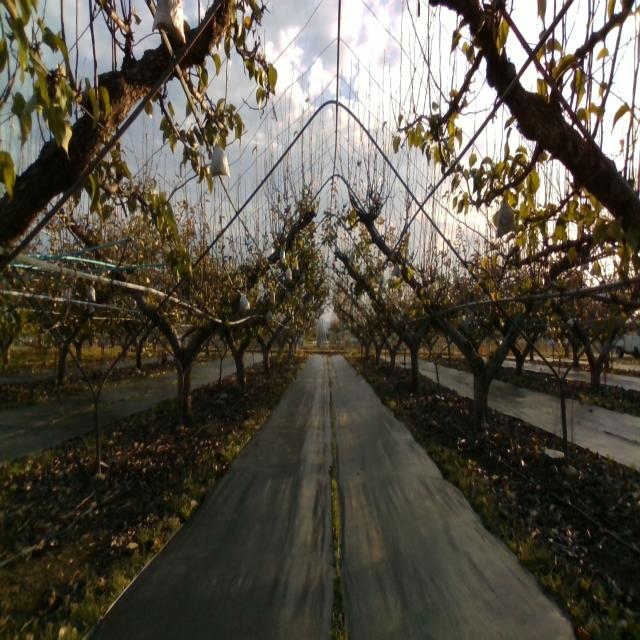pearbags: (151, 0, 186, 46), (208, 137, 231, 180), (495, 196, 517, 239), (240, 292, 250, 311)
